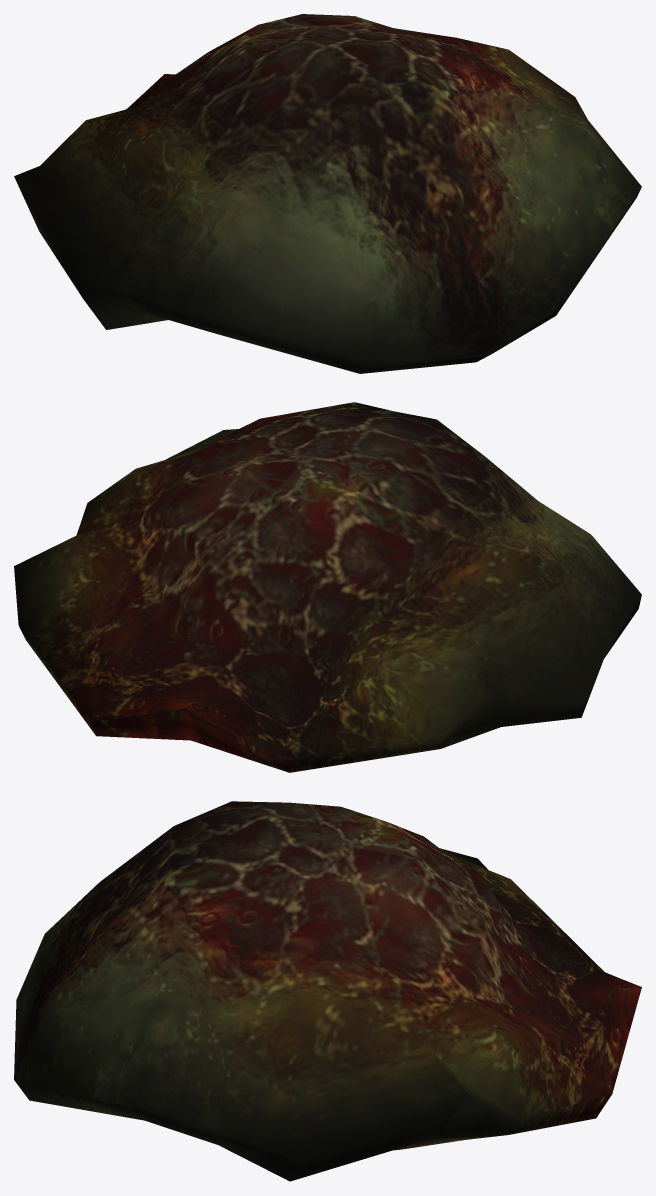
The model's file is Blob_corpse.dae.
3 views of the same model, one above another, from view 1: azimuth 30°, elevation 25°; view 2: azimuth 150°, elevation 25°; view 3: azimuth 270°, elevation 25° (orthographic). The views are drawn at different scales.
Visible parts, largest first — view 1: corpse; view 2: corpse; view 3: corpse.
Boxes of the visible parts, x1,y1,x2,y2 form: corpse: [14, 14, 641, 373]; corpse: [14, 402, 641, 772]; corpse: [14, 801, 641, 1181].
Bounding box in the file's own units: 0.3756 × 0.1816 × 0.3823.
1 material, 1 textured.
